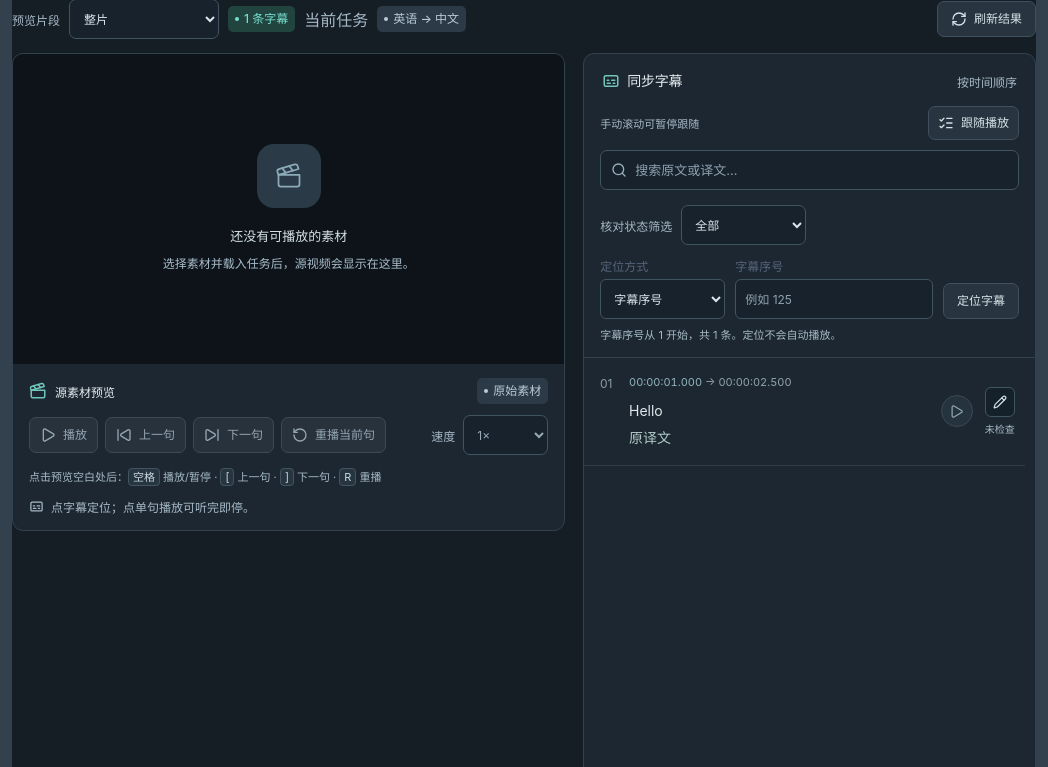
Test case: persisted review drafts in the preview › clears the persisted draft only after a confirmed save
Click the button named "编辑第 1 句". click: (1000, 402)
box: [985,386,1015,416]
(page scrolled)
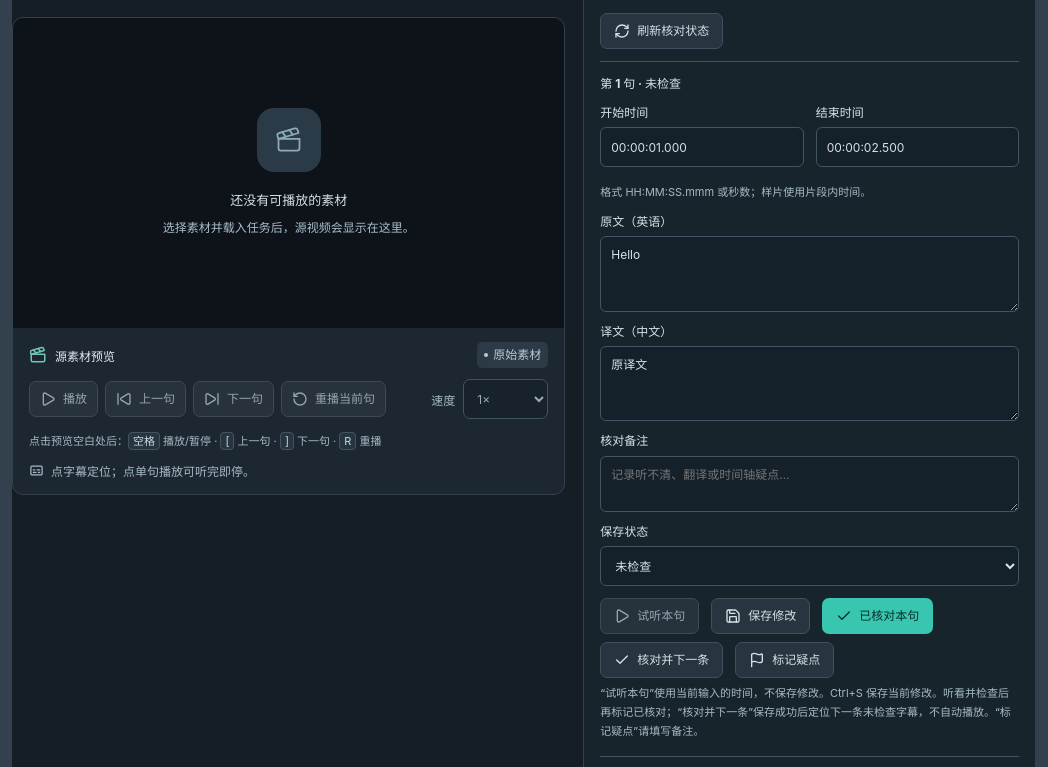
Replace the text in the text box labelled "译文（中文）" with "提交内容". click: (810, 384)
box: [600,346,1019,422]
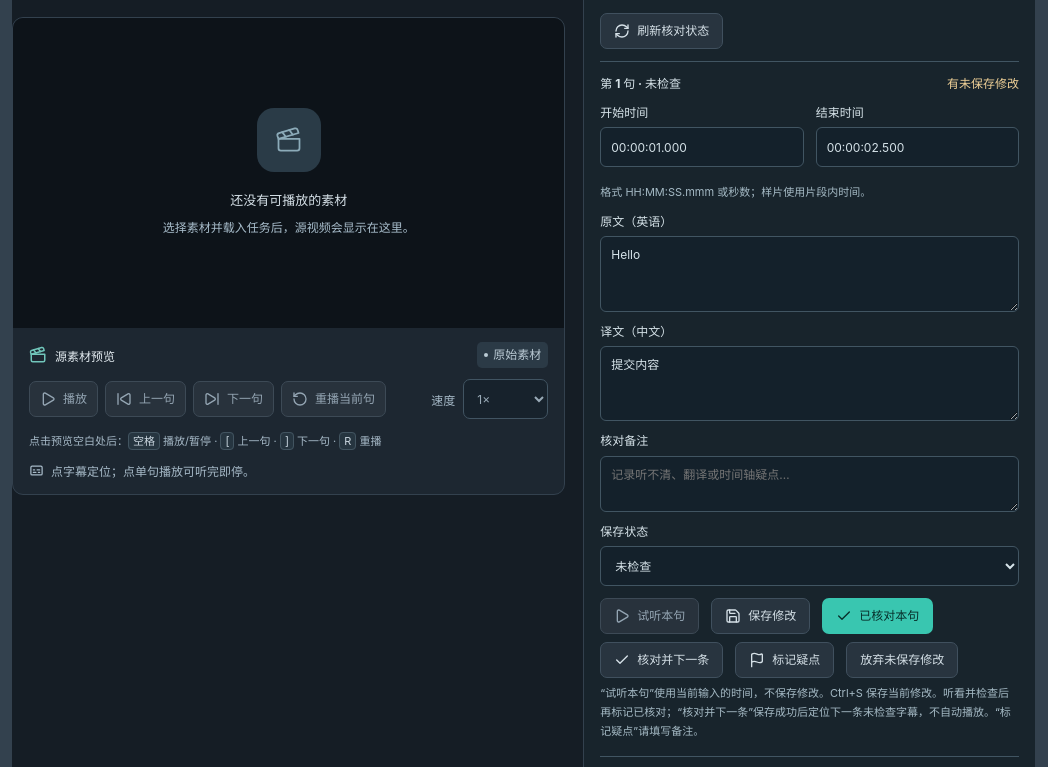
Click the button "保存修改". click: (761, 616)
box: [711,598,810,634]
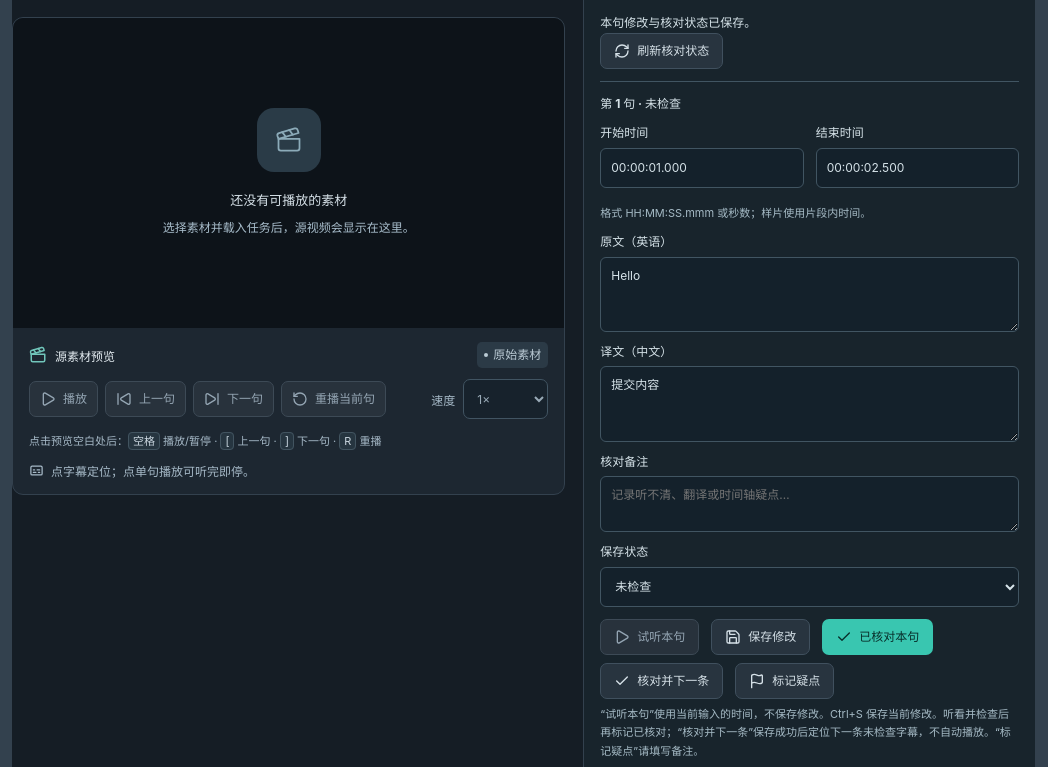
Check: the text "有未保存修改" is gone
